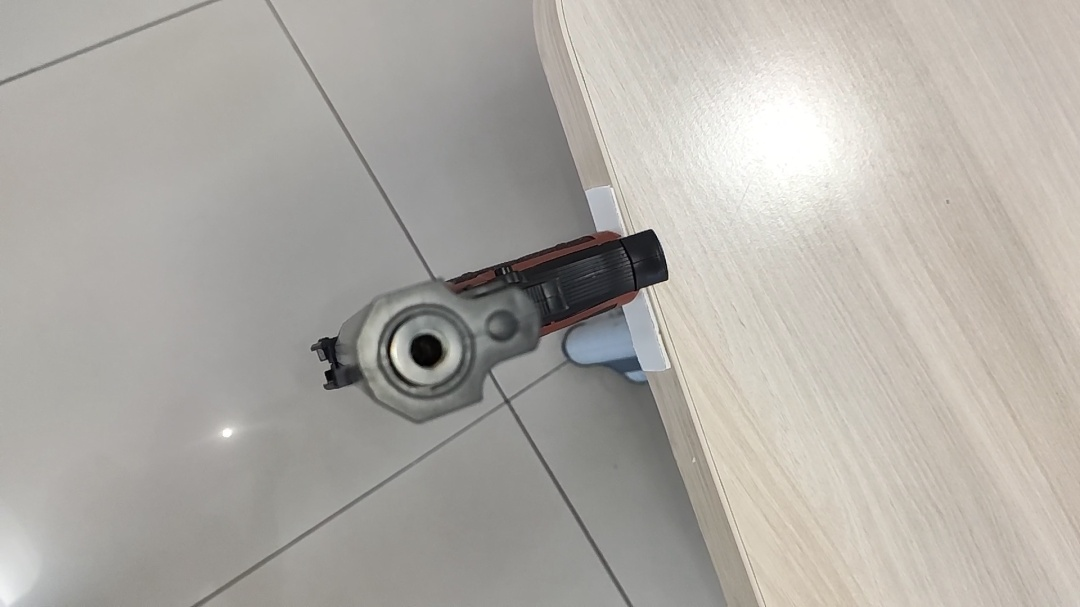gun: (310, 228, 670, 425)
